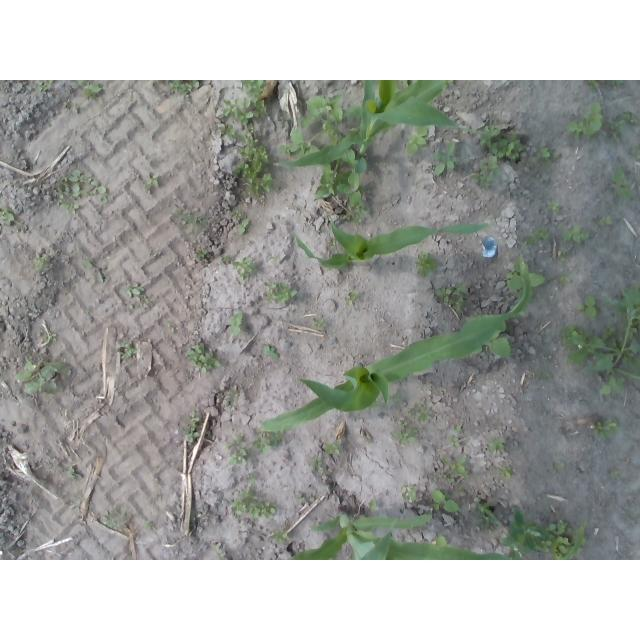Maize: (261, 257, 534, 432), (274, 80, 486, 168), (286, 508, 587, 561), (295, 214, 490, 270)
Weeds: (217, 80, 275, 197), (559, 323, 640, 380), (497, 509, 587, 560), (316, 149, 369, 223), (56, 170, 108, 214), (300, 93, 344, 144), (15, 360, 69, 396), (507, 255, 545, 302), (477, 128, 525, 161), (230, 487, 279, 519), (566, 102, 604, 143), (279, 128, 320, 160), (612, 284, 640, 327), (434, 282, 471, 310), (186, 344, 221, 373), (471, 155, 499, 190), (433, 143, 460, 176), (610, 111, 638, 142), (428, 488, 461, 513), (263, 281, 297, 304), (253, 427, 283, 453), (224, 434, 248, 466), (440, 458, 469, 483), (407, 125, 430, 156), (0, 203, 26, 230), (473, 501, 499, 528), (612, 167, 632, 200), (391, 421, 418, 444), (415, 252, 439, 277), (532, 146, 561, 166), (80, 258, 104, 282), (233, 257, 258, 280), (593, 418, 620, 439), (122, 282, 150, 302), (577, 296, 601, 319), (183, 410, 200, 442), (102, 509, 129, 529), (521, 229, 549, 248), (599, 375, 625, 395), (561, 225, 589, 243), (407, 403, 431, 422), (76, 80, 102, 97), (169, 80, 200, 94), (230, 312, 246, 337), (309, 452, 326, 475), (116, 341, 137, 359), (182, 216, 207, 229), (261, 343, 280, 360), (270, 527, 290, 543), (324, 439, 343, 455), (401, 484, 418, 501), (33, 254, 50, 270), (65, 466, 83, 480), (145, 174, 160, 190), (487, 438, 505, 451), (508, 304, 525, 317), (498, 466, 512, 481), (36, 80, 53, 92), (346, 291, 358, 306), (434, 535, 449, 547), (596, 215, 612, 226), (312, 316, 326, 328), (239, 219, 250, 234), (196, 249, 210, 260), (629, 142, 640, 155), (448, 435, 461, 446), (547, 201, 561, 211), (557, 248, 568, 260), (295, 492, 306, 504), (586, 80, 599, 90), (43, 333, 57, 342), (537, 370, 551, 379), (390, 394, 404, 403), (245, 472, 255, 484), (560, 274, 573, 283), (230, 208, 242, 216), (555, 460, 565, 469), (221, 254, 231, 263), (369, 500, 378, 510), (610, 470, 619, 479), (327, 241, 337, 249), (453, 426, 463, 434), (611, 80, 624, 86), (145, 520, 153, 529), (165, 321, 172, 327)
